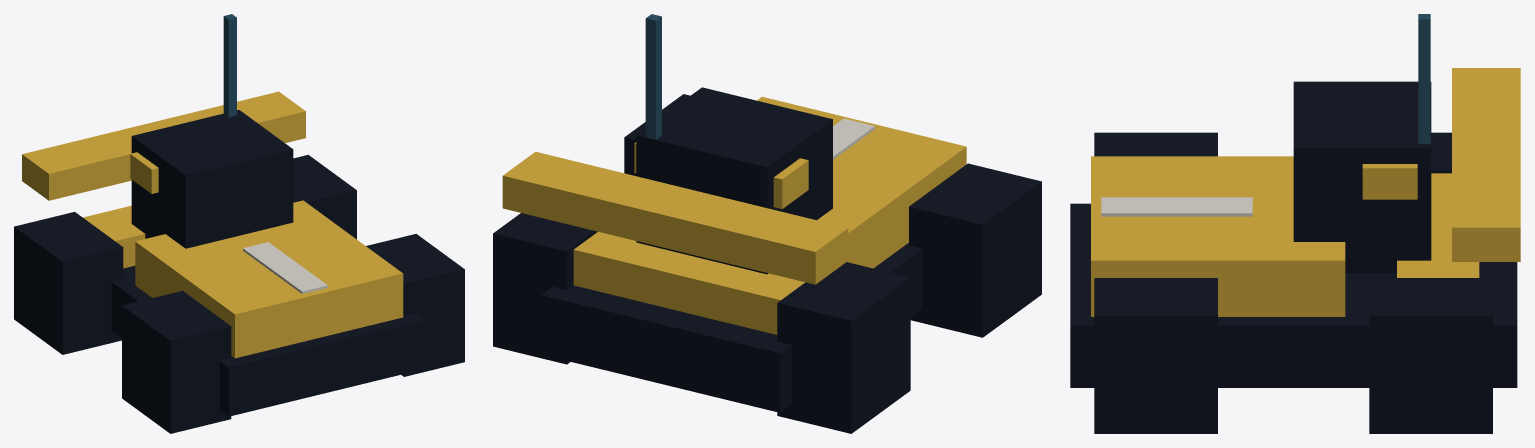
The model's file is kart-fast-2.glb.
3 renders of one model, left to right at view 1: azimuth 30°, elevation 25°; view 2: azimuth 150°, elevation 25°; view 3: azimuth 270°, elevation 25°, orthographic. The views are drawn at different scales.
Visible parts, largest first — view 1: Kart; view 2: Kart; view 3: Kart.
Part boxes in pixels (x1=…): Kart: x1=14, y1=14, x2=464, y2=433; Kart: x1=493, y1=14, x2=1041, y2=433; Kart: x1=1070, y1=14, x2=1520, y2=433.
Bounding box in the file's own units: 0.63 × 0.565 × 0.655.
